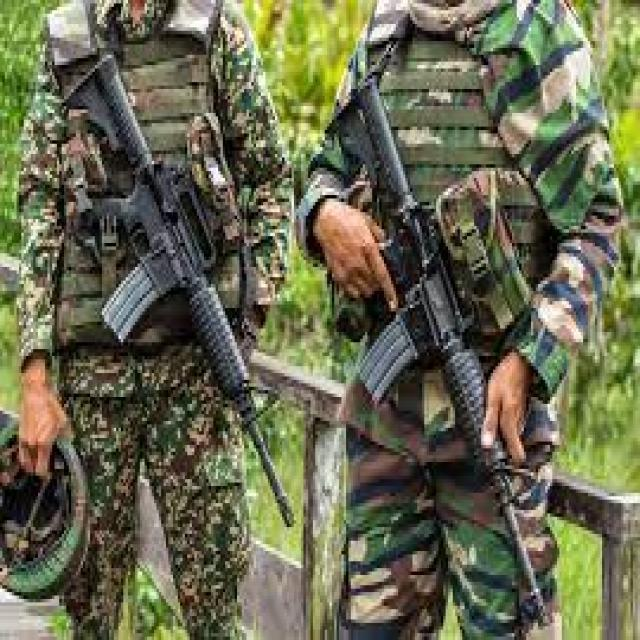m16: (44, 18, 316, 556)
